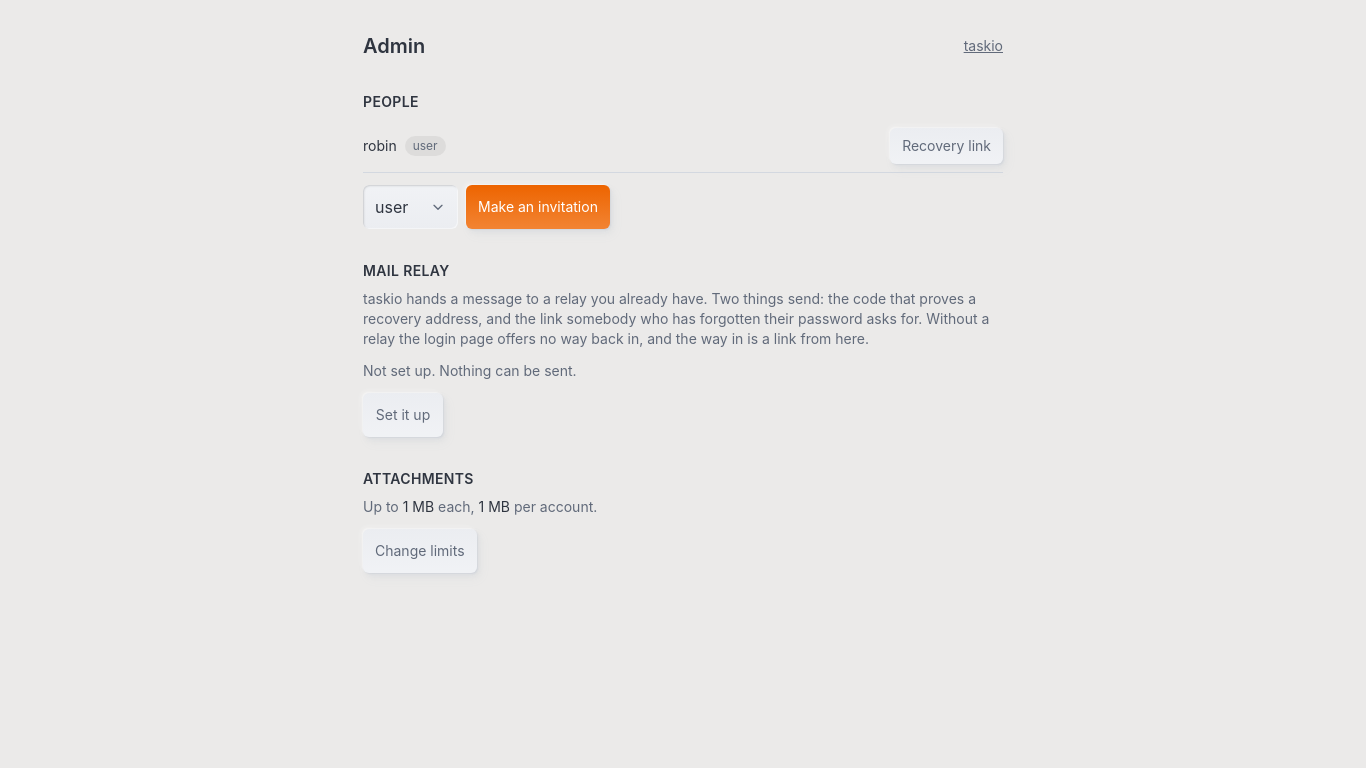
Test case: Admin › shows a recovery link in a dialog of its own, with a copy
Click the button "Recovery link": (947, 146) [890,128,1003,164]
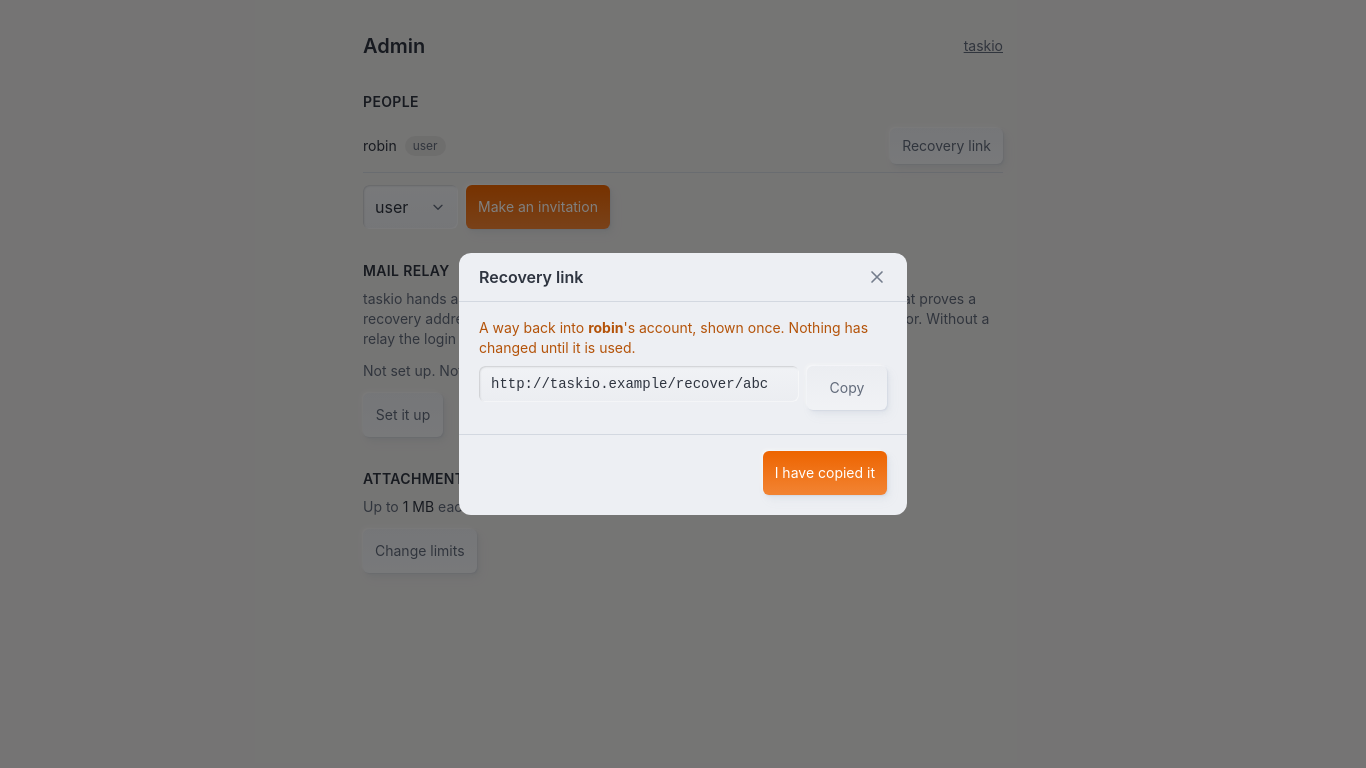
Expected: the text "http://taskio.example/recover/abc" is shown, [479,366,799,402]
Expected: the text "robin" is shown, [588,319,624,336]
Expected: the button "Copy" is shown, [807,366,887,410]
Click the button "I have copied it": (825, 473) [763,451,887,495]
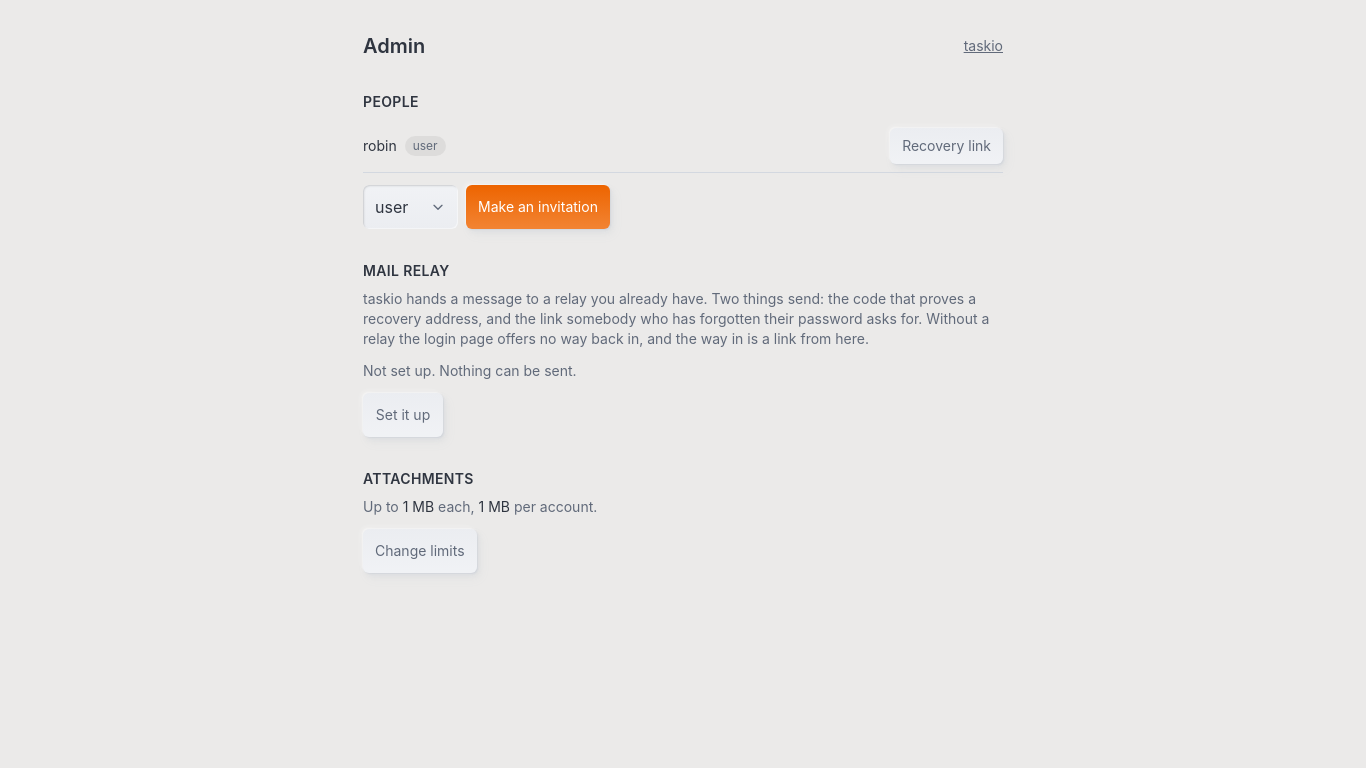
Expected: the text "http://taskio.example/recover/abc" is gone
